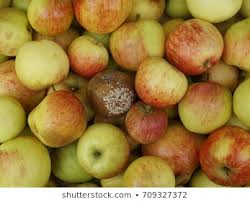apple: (180, 79, 234, 135), (168, 19, 227, 70), (27, 94, 87, 142), (17, 40, 73, 91), (200, 130, 249, 184), (79, 125, 129, 174), (4, 138, 56, 185), (113, 23, 164, 69), (145, 126, 196, 172), (137, 59, 186, 105), (78, 1, 132, 35), (25, 2, 75, 37)
damaged_apple: (81, 73, 136, 124)
